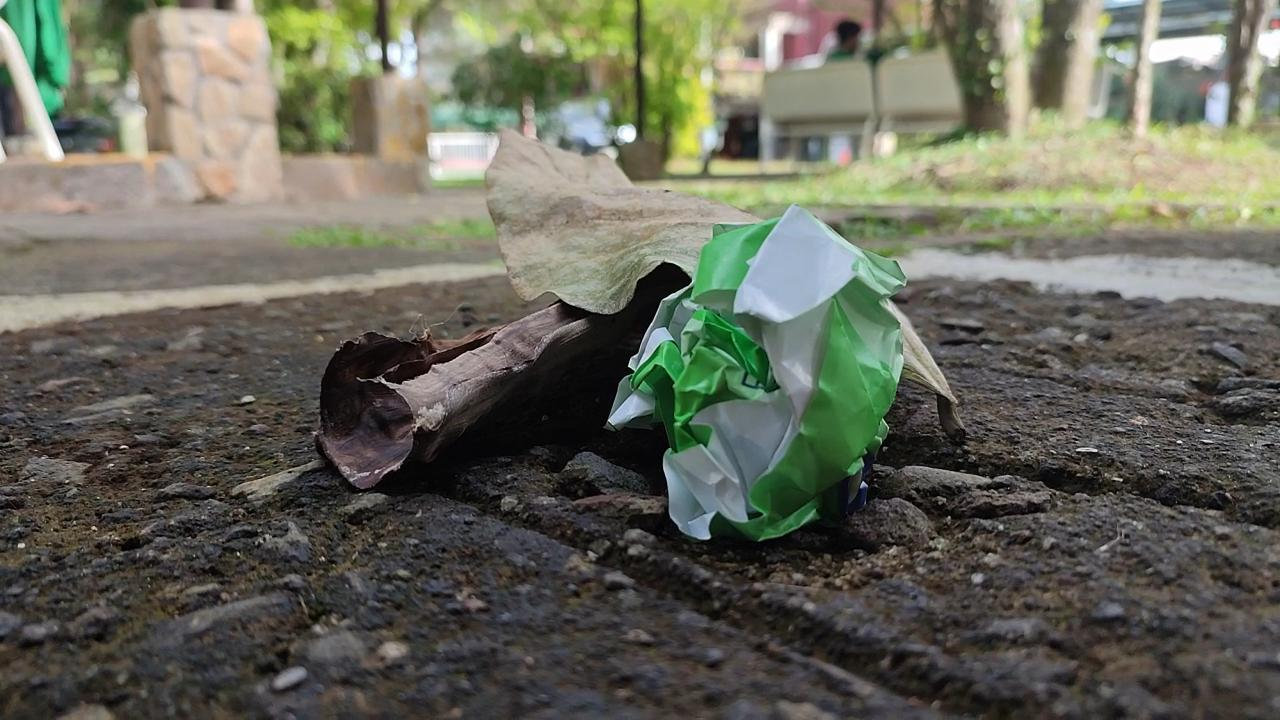Paper: (622, 220, 910, 537)
